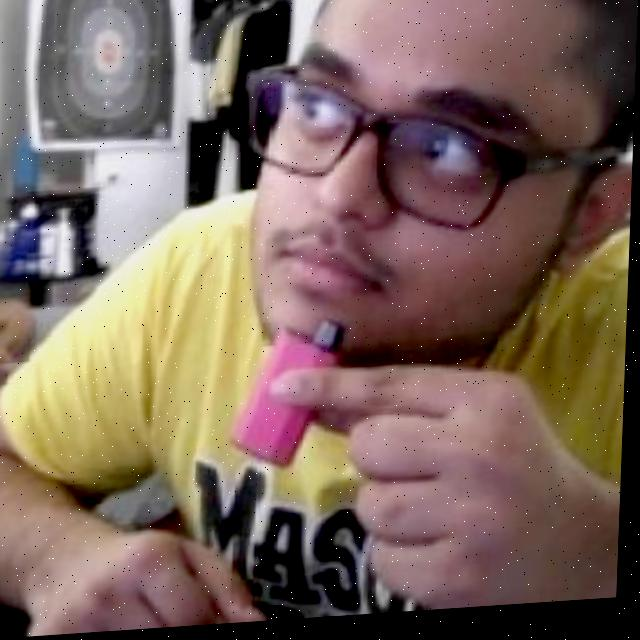vape: (230, 320, 348, 473)
